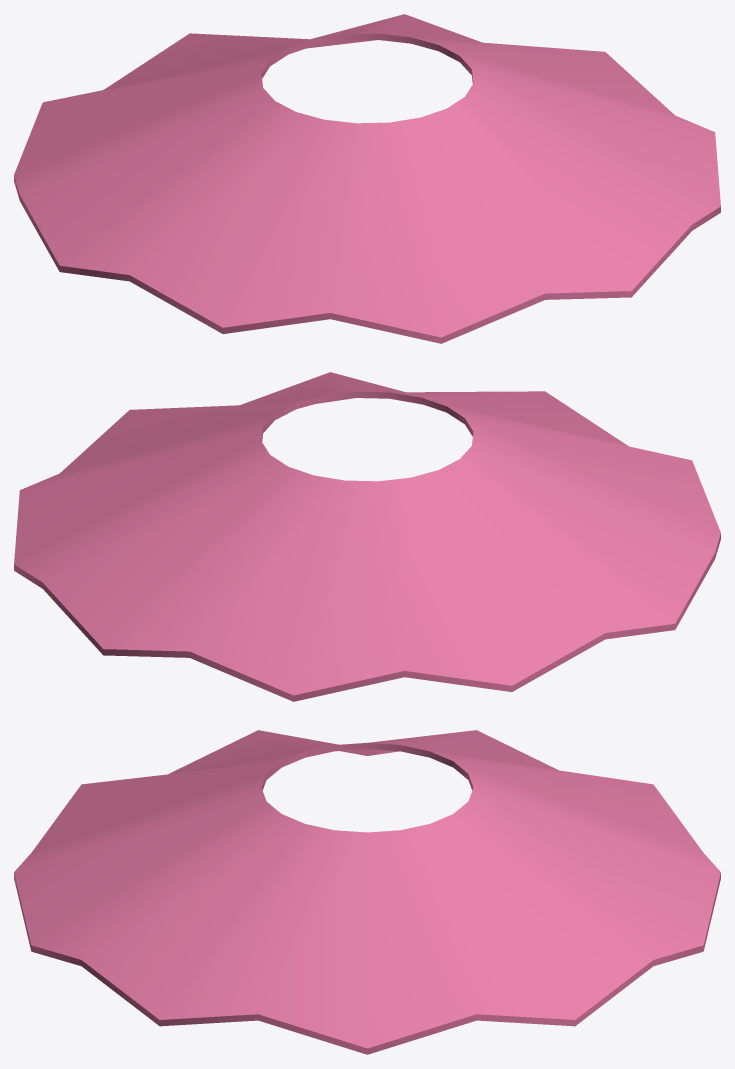
Rendered from tutu.fbx.
3 views of the same model, one above another, from view 1: azimuth 30°, elevation 25°; view 2: azimuth 150°, elevation 25°; view 3: azimuth 270°, elevation 25° (orthographic).
Visible parts, largest first — view 1: pPipe1; view 2: pPipe1; view 3: pPipe1.
Boxes of the visible parts, x1,y1,x2,y2 form: pPipe1: [14, 14, 720, 343]; pPipe1: [14, 372, 720, 701]; pPipe1: [14, 730, 720, 1054].
Bounding box in the file's own units: 80.88 × 14.88 × 80.88.
